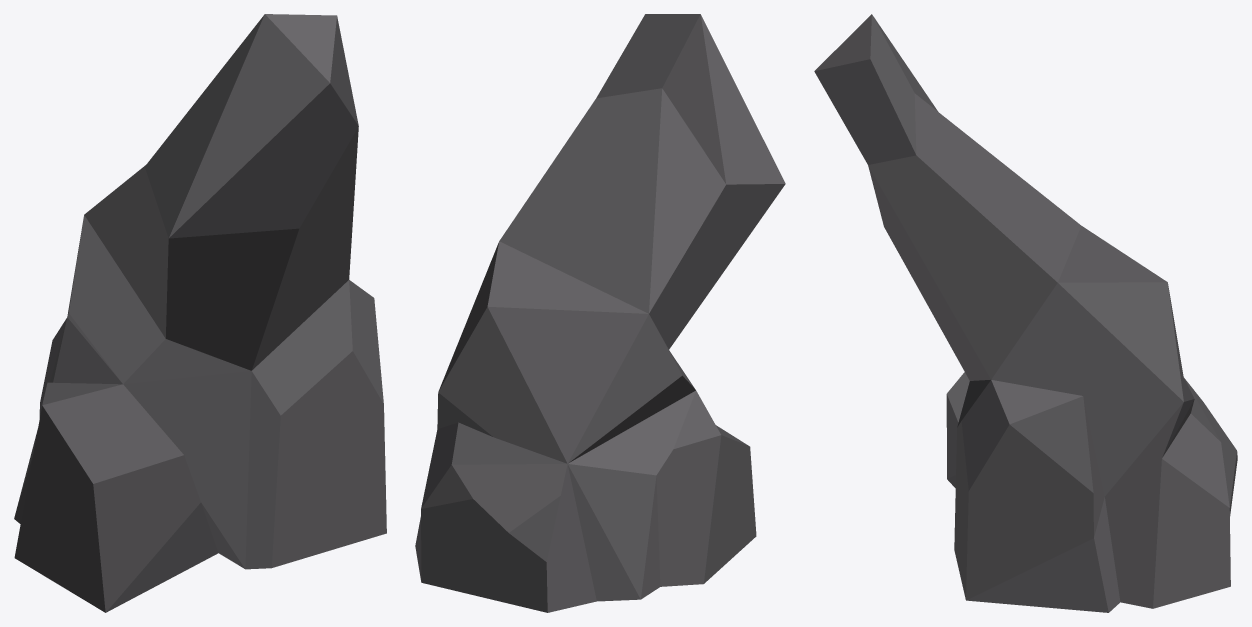
Rendered from mesh_rock_04.fbx.
3 views of the same model, side by side, from view 1: azimuth 30°, elevation 25°; view 2: azimuth 150°, elevation 25°; view 3: azimuth 270°, elevation 25° (orthographic). The views are drawn at different scales.
Visible parts, largest first — view 1: mesh_rock_04; view 2: mesh_rock_04; view 3: mesh_rock_04.
Part boxes in pixels (x1,y1,x2,y2): mesh_rock_04: [14, 14, 386, 612]; mesh_rock_04: [415, 14, 785, 612]; mesh_rock_04: [814, 14, 1237, 612].
Size of the model in its own units: 516 by 890 by 666.
